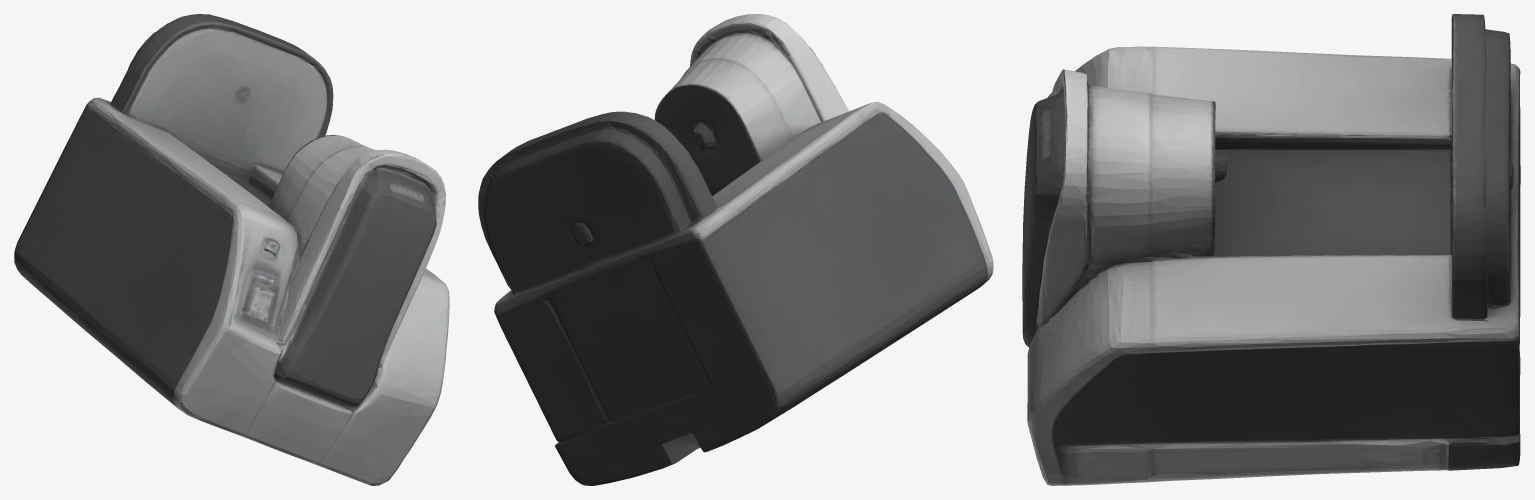
The model's file is keurig_classic_mv.glb.
3 views of the same model, side by side, from view 1: azimuth 30°, elevation 25°; view 2: azimuth 150°, elevation 25°; view 3: azimuth 270°, elevation 25° (orthographic). The views are drawn at different scales.
Parts seen in each view (by area): view 1: geometry_0; view 2: geometry_0; view 3: geometry_0.
Part boxes in pixels (x1,y1,x2,y2): geometry_0: (14,14,449,485); geometry_0: (478,14,993,485); geometry_0: (1022,14,1520,485).
Bounding box in the file's own units: 0.3049 × 0.3273 × 0.3302.
1 material, 1 textured.
